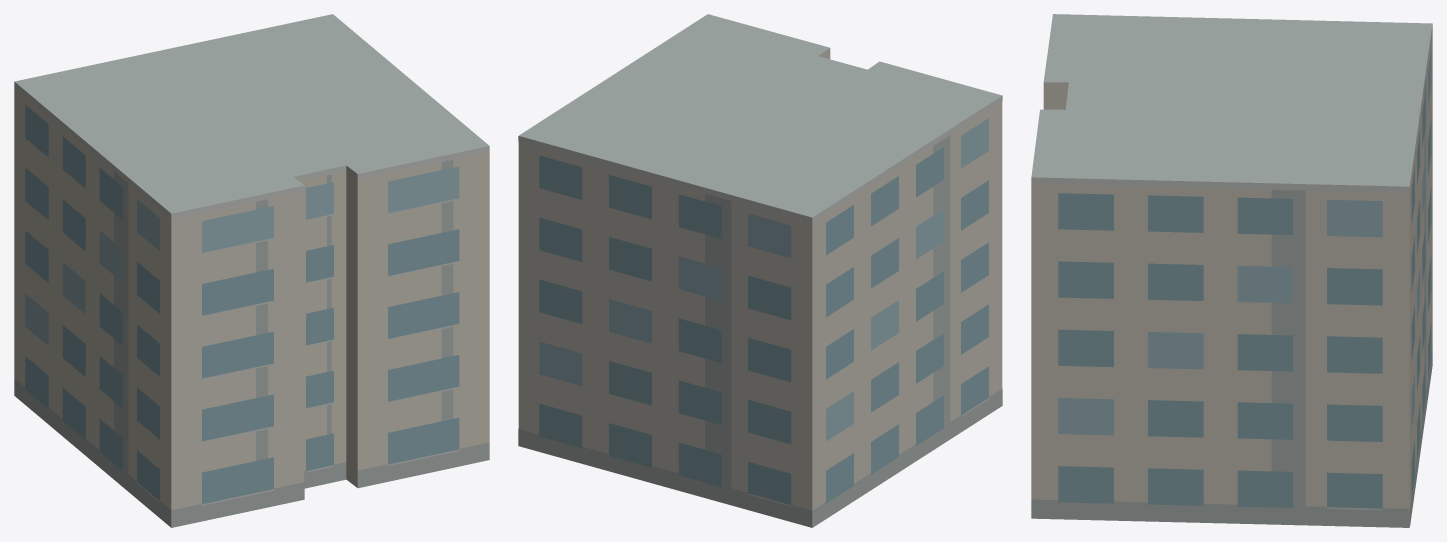
Rendered from survey-upis-32850259.glb.
3 views of the same model, side by side, from view 1: azimuth 30°, elevation 25°; view 2: azimuth 150°, elevation 25°; view 3: azimuth 270°, elevation 25° (orthographic). The views are drawn at different scales.
Parts seen in each view (by area): view 1: survey-upis-32850259.tmp; view 2: survey-upis-32850259.tmp; view 3: survey-upis-32850259.tmp.
Part boxes in pixels (x1=…): survey-upis-32850259.tmp: x1=14, y1=14, x2=489, y2=527; survey-upis-32850259.tmp: x1=518, y1=14, x2=1002, y2=527; survey-upis-32850259.tmp: x1=1031, y1=14, x2=1432, y2=527.
Bounding box in the file's own units: 14.12 × 13 × 13.87.
